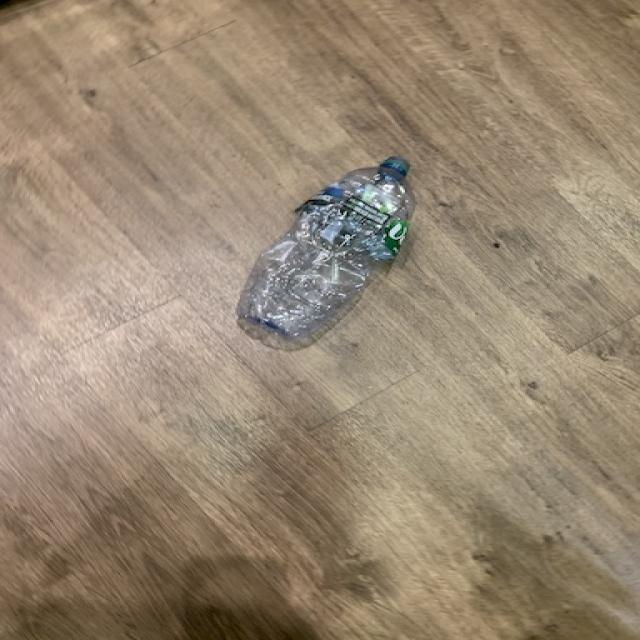litter: (238, 158, 424, 342)
